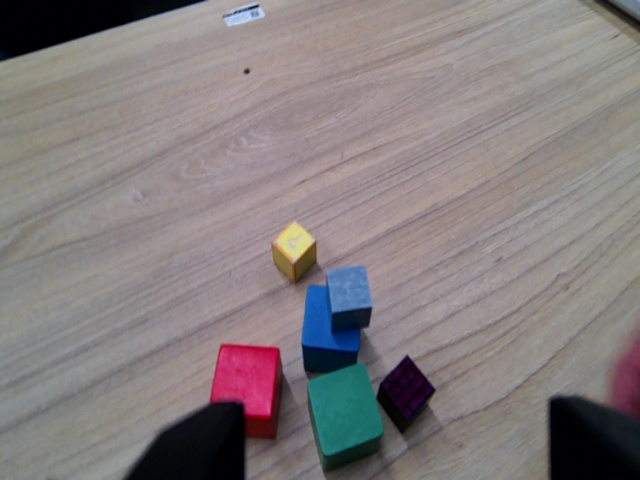brick: (375, 353, 439, 436)
lucky: (267, 216, 321, 287)
stone: (318, 261, 379, 335)
